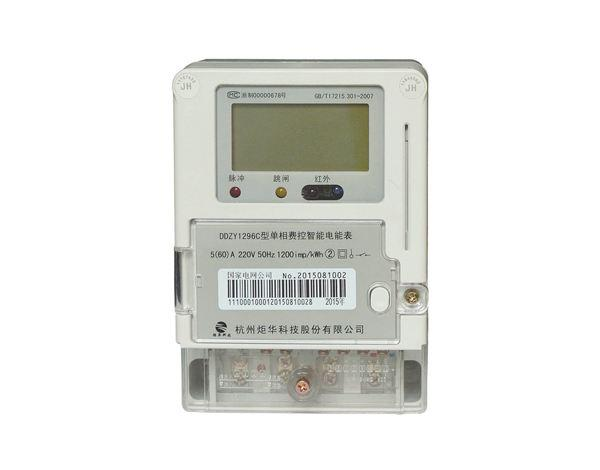digital: (179, 68, 426, 346)
